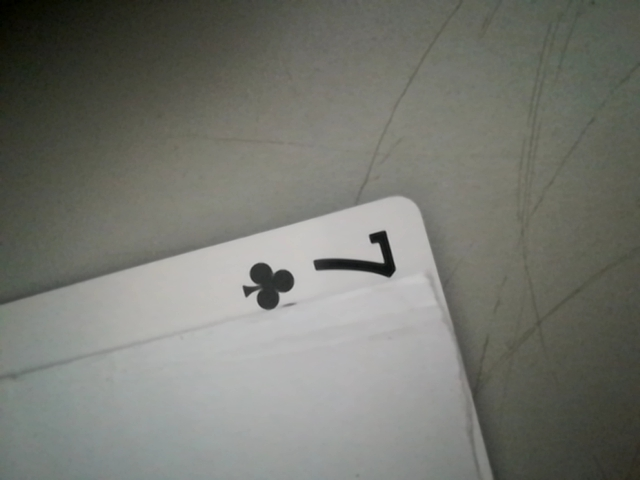mh 7: (210, 224, 418, 307)
